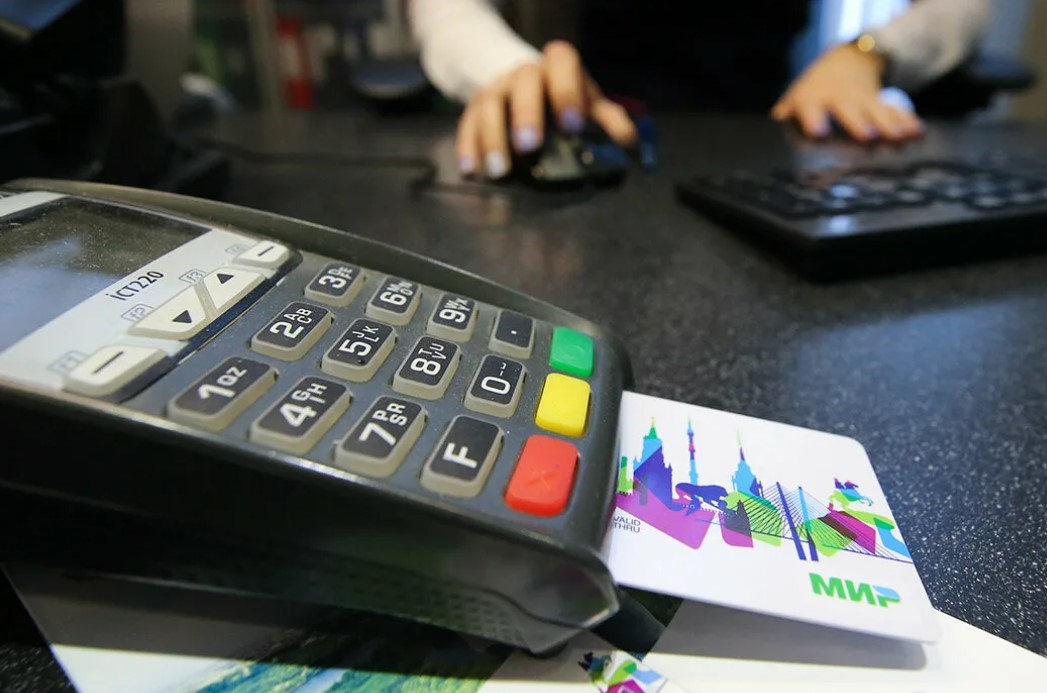card: (604, 389, 942, 650)
